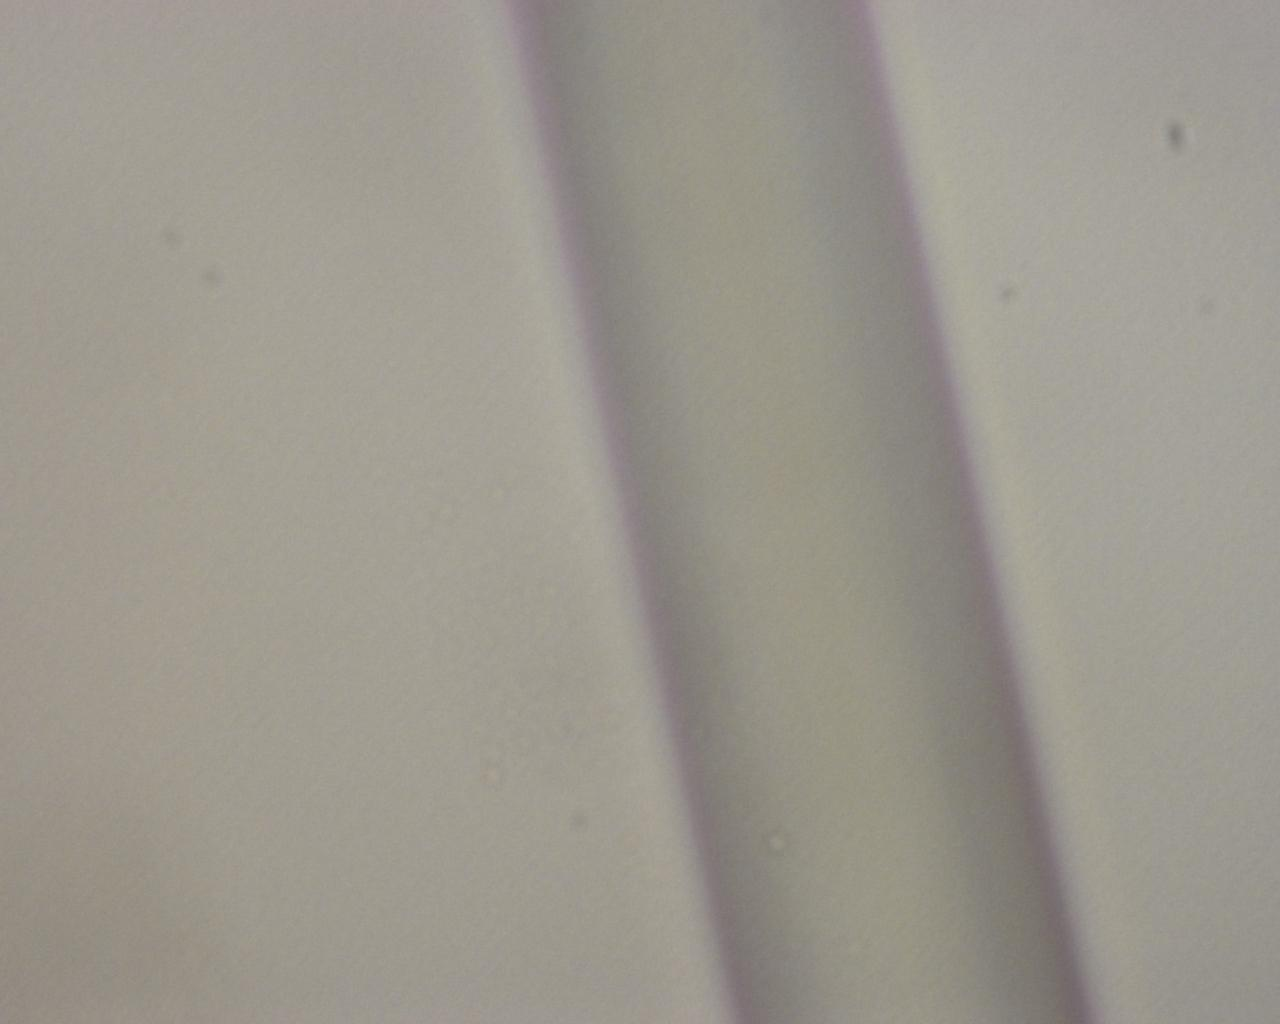fiber: (389, 0, 473, 1024)
